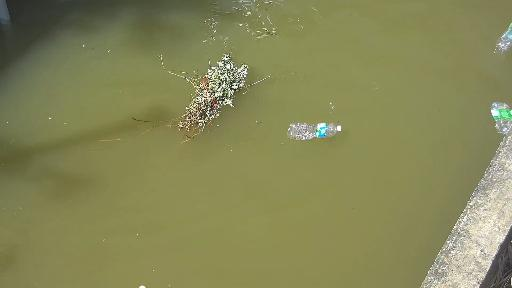plastic: (284, 120, 348, 139), (483, 96, 512, 130), (494, 23, 512, 54), (138, 281, 146, 288)
twig: (170, 46, 243, 151)
